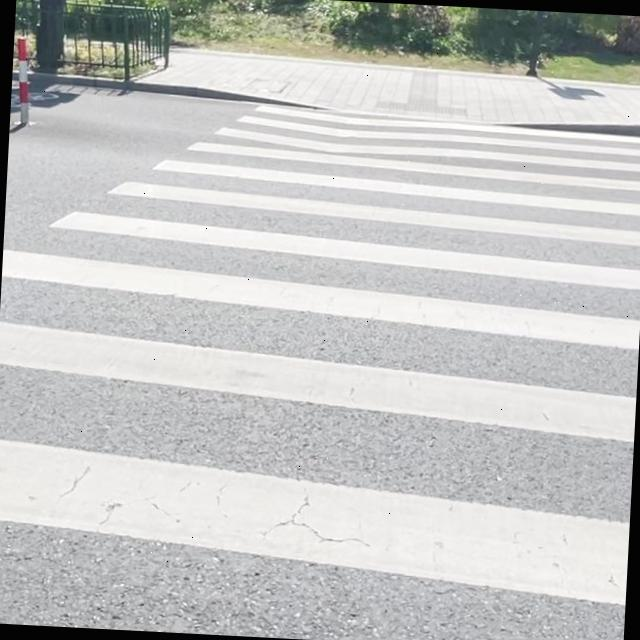curb: (29, 74, 331, 109), (497, 122, 640, 136)
